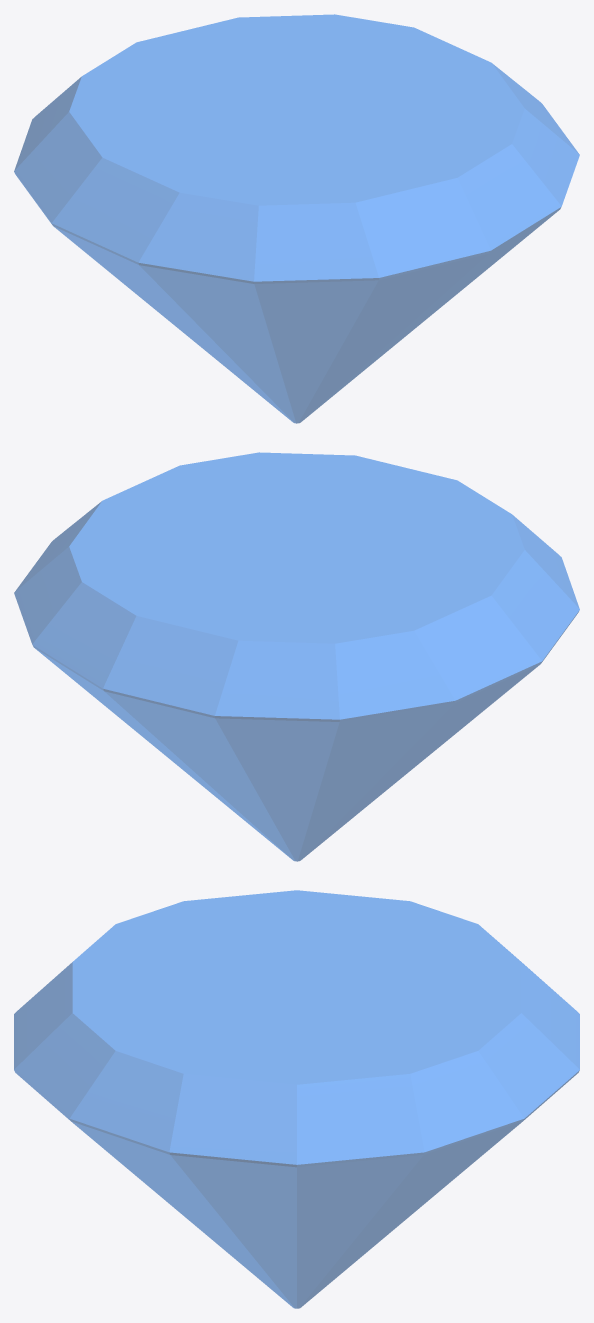
Rendered from gem.glb.
3 views of the same model, one above another, from view 1: azimuth 30°, elevation 25°; view 2: azimuth 150°, elevation 25°; view 3: azimuth 270°, elevation 25° (orthographic). The views are drawn at different scales.
Parts seen in each view (by area): view 1: Gem_3; view 2: Gem_3; view 3: Gem_3.
Part boxes in pixels (x1,y1,x2,y2): Gem_3: [14, 14, 579, 423]; Gem_3: [14, 452, 579, 861]; Gem_3: [14, 890, 579, 1308].
Bounding box in the file's own units: 0.4126 × 0.2504 × 0.4023.
